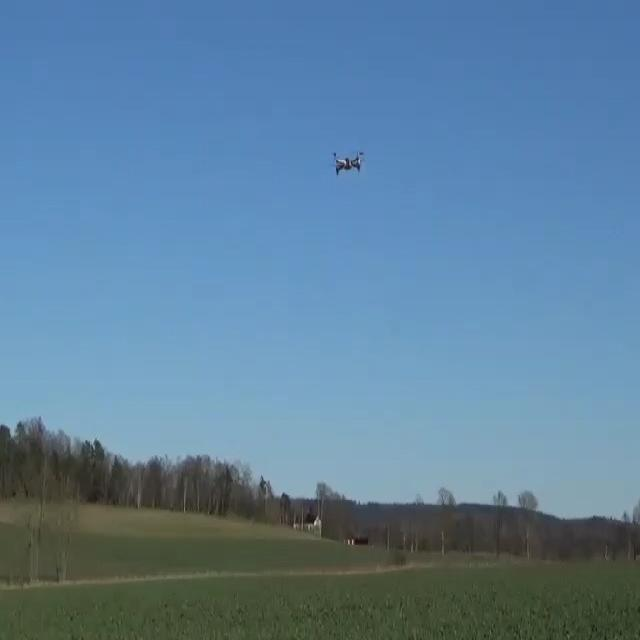drone: (332, 151, 366, 178)
